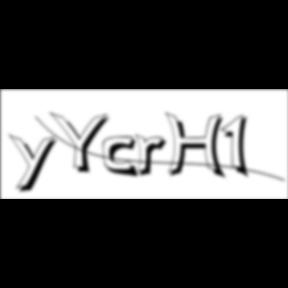1: (220, 114, 255, 182)
H: (165, 112, 231, 182)
Y: (48, 110, 115, 176)
c: (104, 136, 144, 180)
r: (136, 134, 174, 180)
y: (9, 132, 63, 196)
